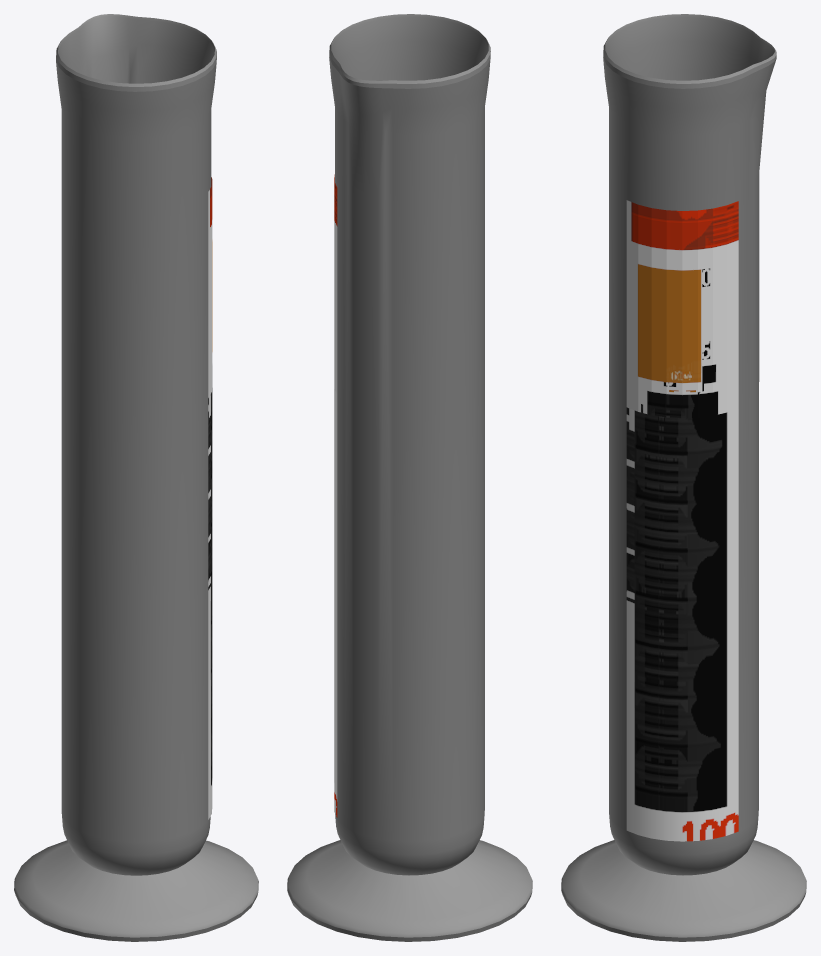
3 views of the same model, side by side, from view 1: azimuth 30°, elevation 25°; view 2: azimuth 150°, elevation 25°; view 3: azimuth 270°, elevation 25° (orthographic).
Visible parts, largest first — view 1: SM_量筒_001; view 2: SM_量筒_001; view 3: SM_量筒_001.
Boxes of the visible parts, bbox=[...] form: SM_量筒_001: bbox=[14, 14, 258, 941]; SM_量筒_001: bbox=[287, 14, 532, 941]; SM_量筒_001: bbox=[561, 14, 806, 941].
Bounding box in the file's own units: 0.0436 × 0.1647 × 0.0435.
